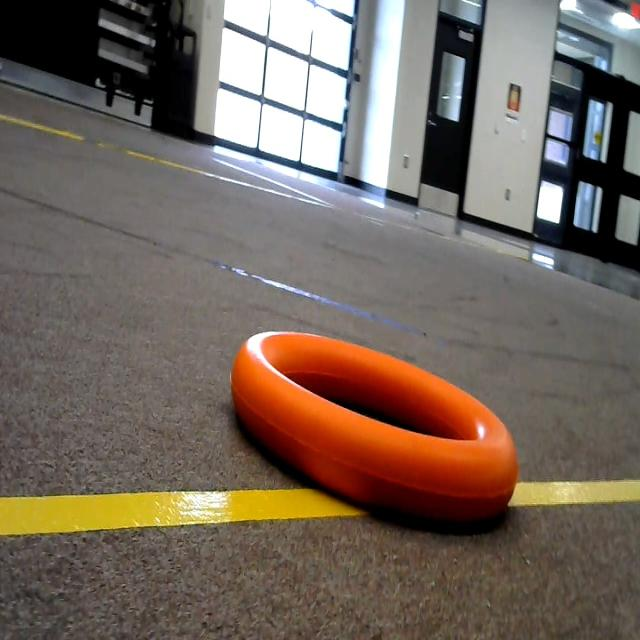note: (213, 295, 529, 565)
